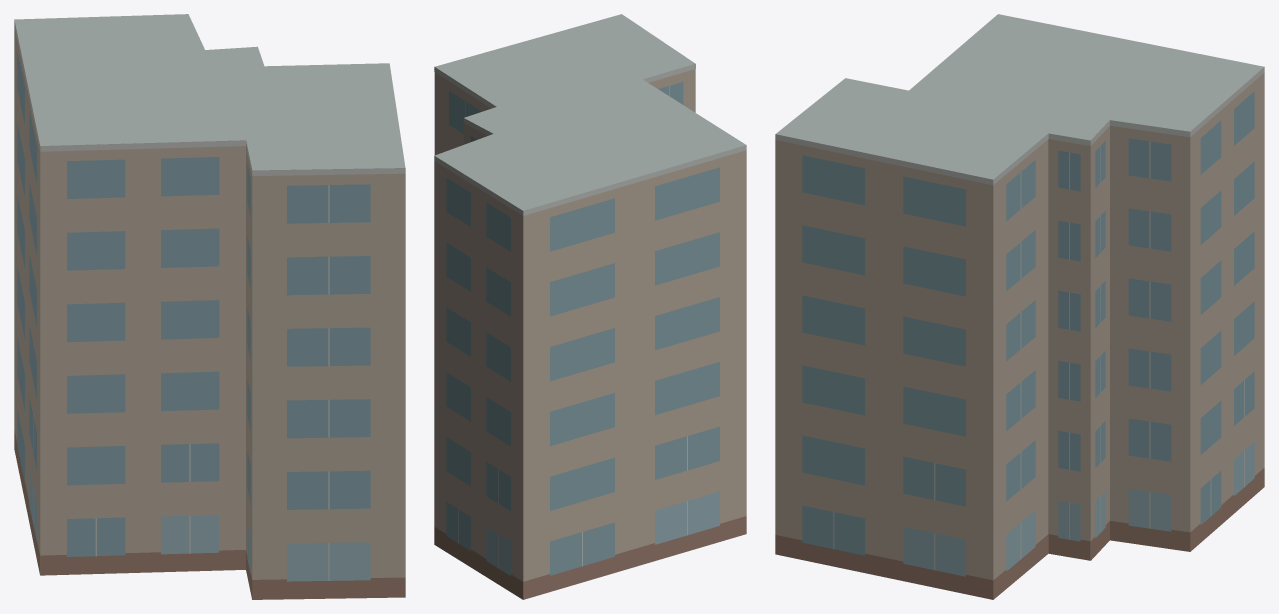
File: survey-upis-32873193.glb
3 views of the same model, side by side, from view 1: azimuth 30°, elevation 25°; view 2: azimuth 150°, elevation 25°; view 3: azimuth 270°, elevation 25° (orthographic). The views are drawn at different scales.
Parts seen in each view (by area): view 1: survey-upis-32873193.tmp; view 2: survey-upis-32873193.tmp; view 3: survey-upis-32873193.tmp.
Part boxes in pixels (x1,y1,x2,y2): survey-upis-32873193.tmp: (14, 14, 405, 599); survey-upis-32873193.tmp: (434, 14, 746, 599); survey-upis-32873193.tmp: (775, 14, 1264, 599).
Bounding box in the file's own units: 15.48 × 18.3 × 19.32.
